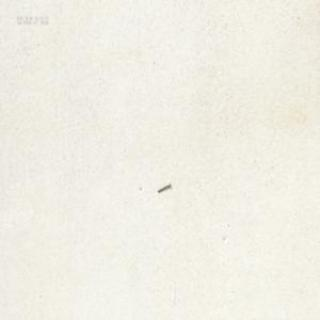Bolttrack_idkeyframe: (156, 182, 170, 192)
